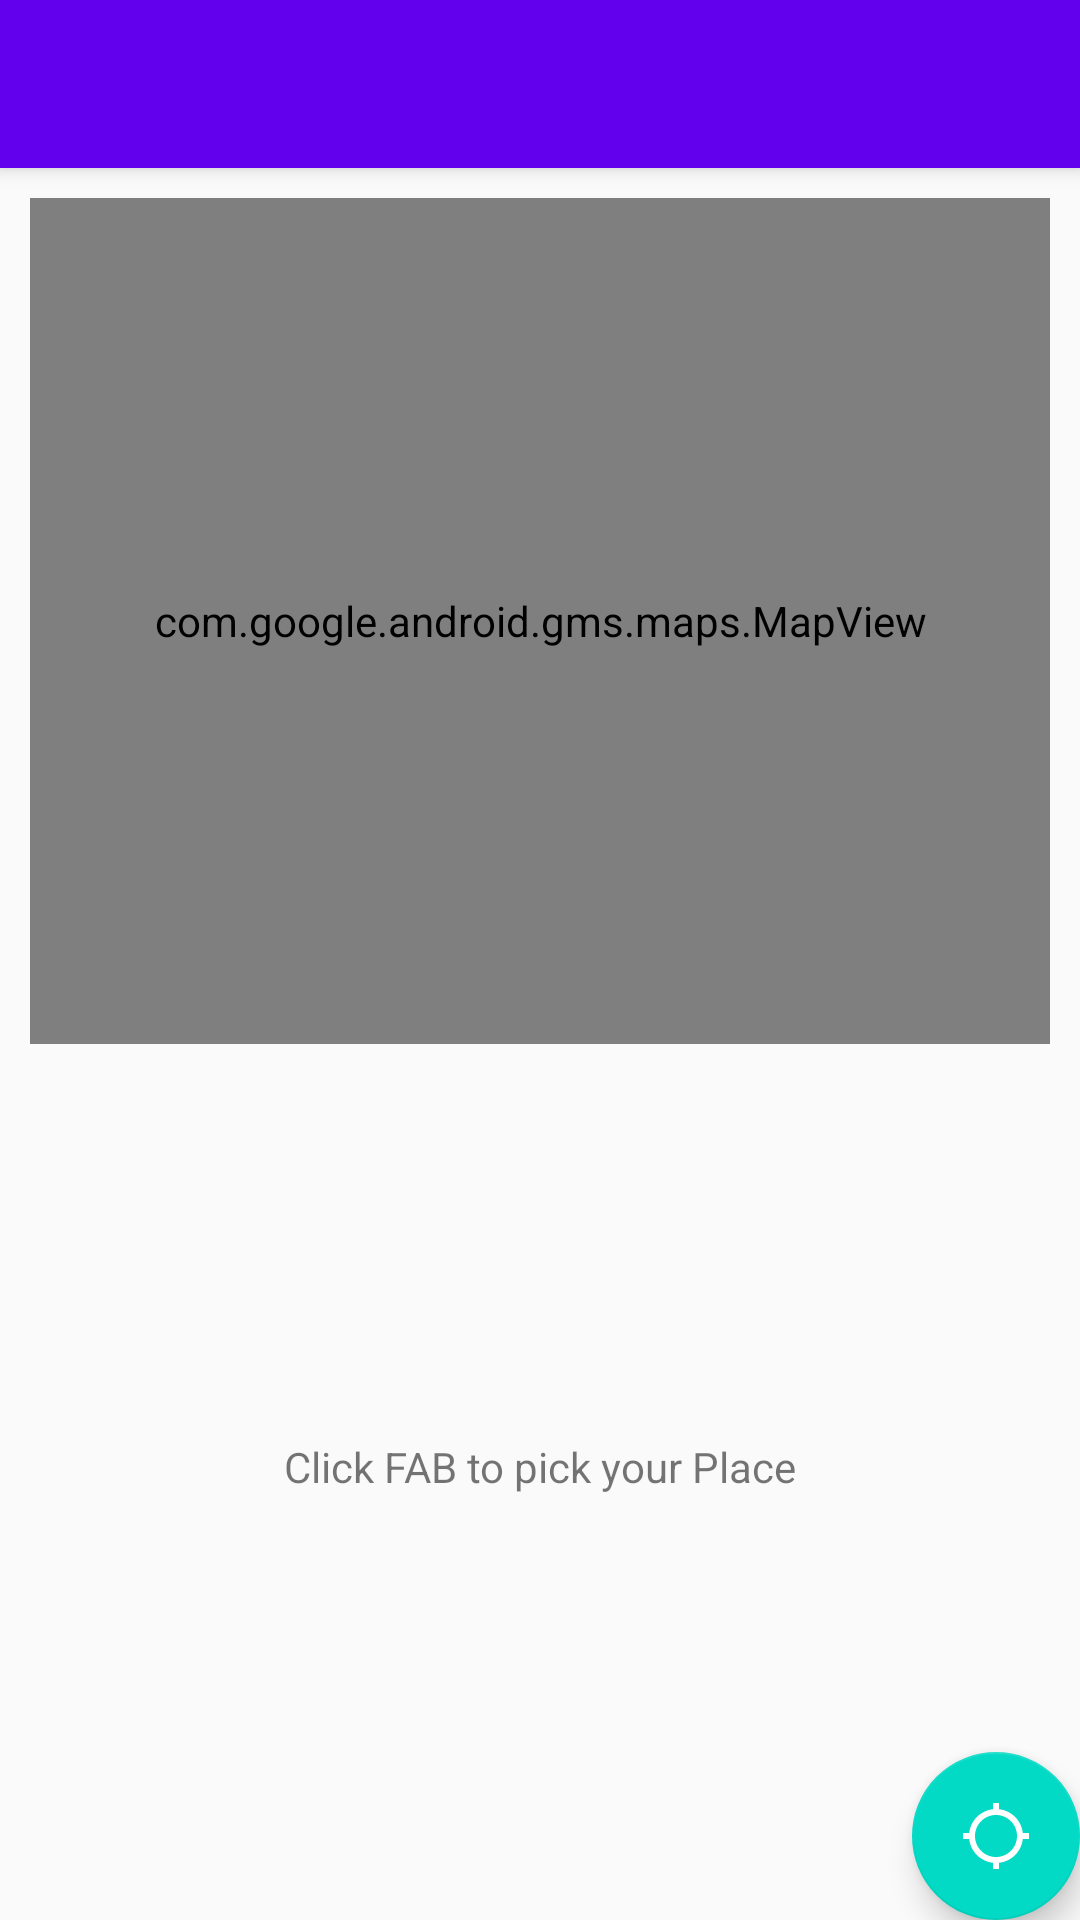

Named icons in this screenshot (1080x1920) and their centers, (x=x, y=y):
location searching: (x=996, y=1836)
